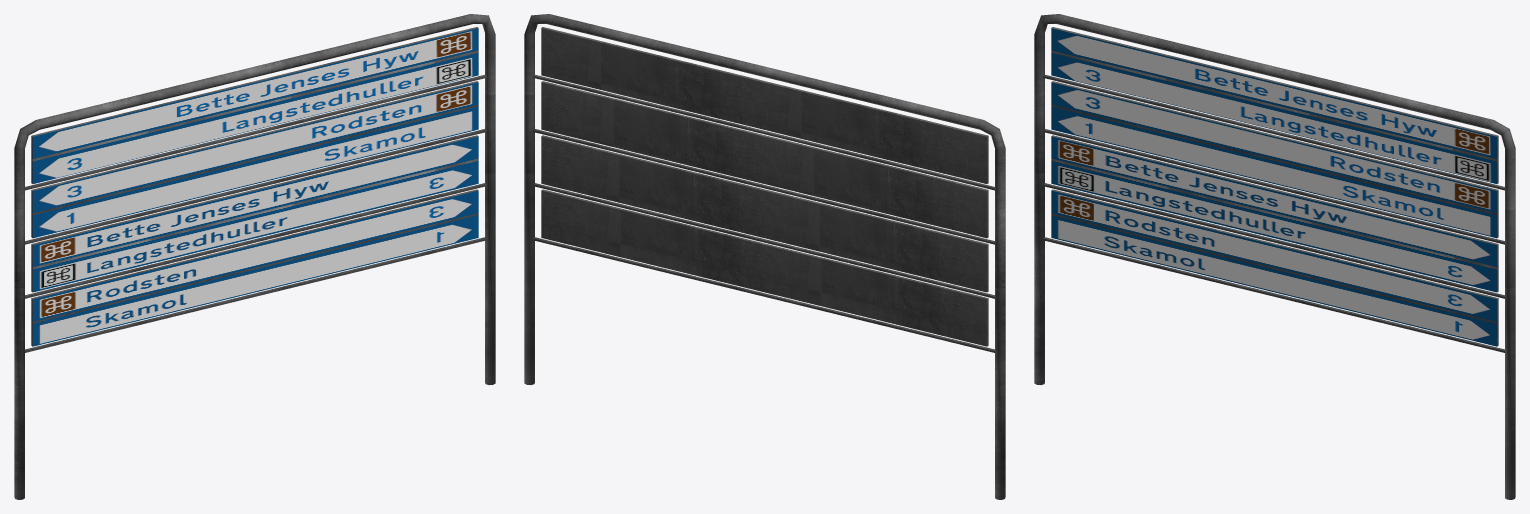
The model's file is SkilteStortFur.fbx.
3 views of the same model, side by side, from view 1: azimuth 30°, elevation 25°; view 2: azimuth 150°, elevation 25°; view 3: azimuth 330°, elevation 25° (orthographic).
Parts seen in each view (by area): view 1: Skilt_LOD0; view 2: Skilt_LOD0; view 3: Skilt_LOD0.
Part boxes in pixels (box(x1,y1,x2,y2)): Skilt_LOD0: box(14, 14, 495, 499); Skilt_LOD0: box(524, 14, 1005, 499); Skilt_LOD0: box(1034, 14, 1515, 499).
Size of what is drawn, in the model's own units: 255 by 190 by 5.
